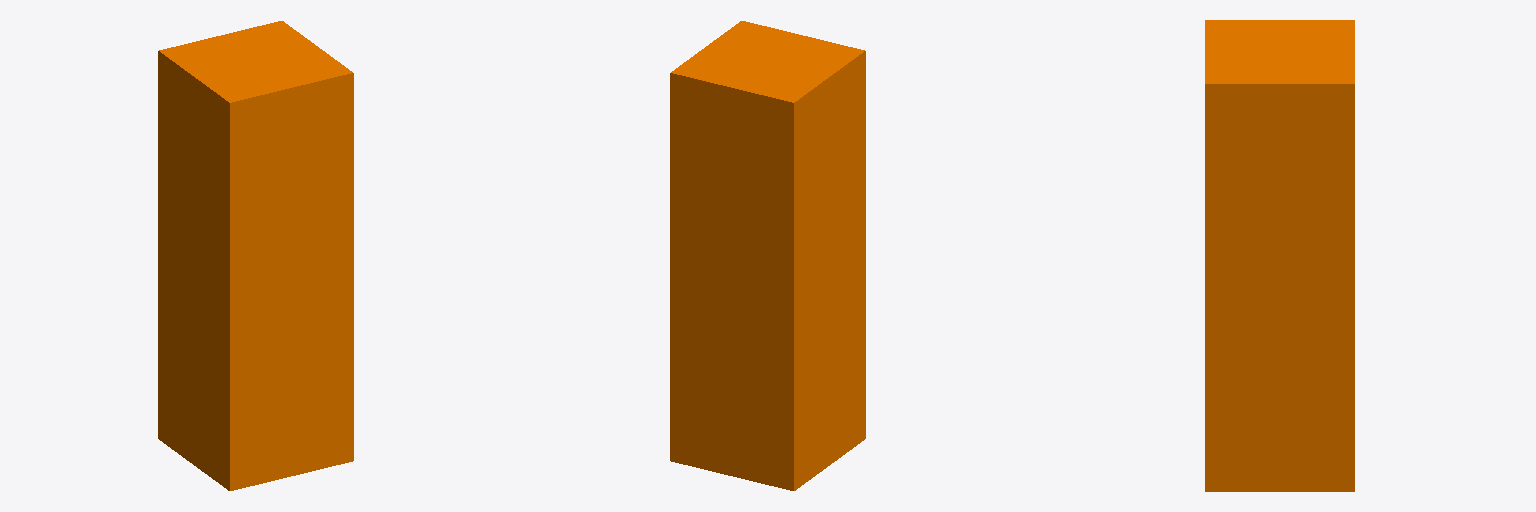
The robot description file, URDF, robot "cube_05_15":
<?xml version="1.0"?>
<robot name="cube_05_15">
    <link name="cube_05_15">
        <visual>
            <origin xyz="0 -0.12085083963153536724 0" rpy="-1.570796326794896558 -1.570796326794896558 0" />
            <geometry>
            <mesh filename="separate_wall_shapes_small/shape_objects/object_cube_05_15.obj"/>
            </geometry>
            <material name="cube_05_15_material">
            <color rgba="0.97254901960784312376 0.52941176470588235947 0.0039215686274509803377 1.0"/>
            </material>
        </visual>
        <collision>
            <origin xyz="0 -0.12085083963153536724 0" rpy="-1.570796326794896558 -1.570796326794896558 0" />
            <geometry>
            <mesh filename="separate_wall_shapes_small/shape_objects/object_cube_05_15.obj"/>
            </geometry>
        </collision>
        <inertial>
            <origin xyz="0 0 0" rpy="0 0 0"/>
            <mass value=".375" />
            <inertia ixx="0.01" ixy="0" ixz="0" iyy="0.01" iyz="0" izz="0.01" />  <!-- Adjust these values based on your object -->        </inertial>
    </link>


</robot>

--- Render facts (derived) ---
3 views of the same robot in one strip: view 1: azimuth 30°, elevation 25°; view 2: azimuth 150°, elevation 25°; view 3: azimuth 270°, elevation 25° (orthographic).
Robot: cube_05_15 — 1 links, 0 joints (none); root link cube_05_15; default pose: every joint at zero.
Links seen in each view (by area): view 1: cube_05_15; view 2: cube_05_15; view 3: cube_05_15.
Link boxes in pixels (x1,y1,x2,y2): cube_05_15: [158, 21, 353, 490]; cube_05_15: [670, 21, 865, 490]; cube_05_15: [1205, 20, 1354, 491].
Bounding box of the posed robot: 0.05 × 0.05 × 0.15 m (x, y, z).
1 mesh visuals loaded from 1 distinct referenced files (1 OBJ).